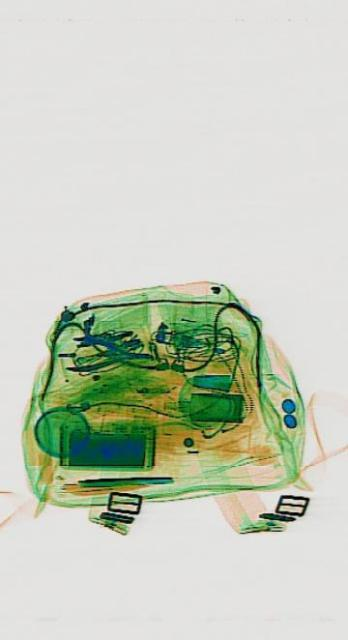Pliers: (64, 333, 147, 372)
